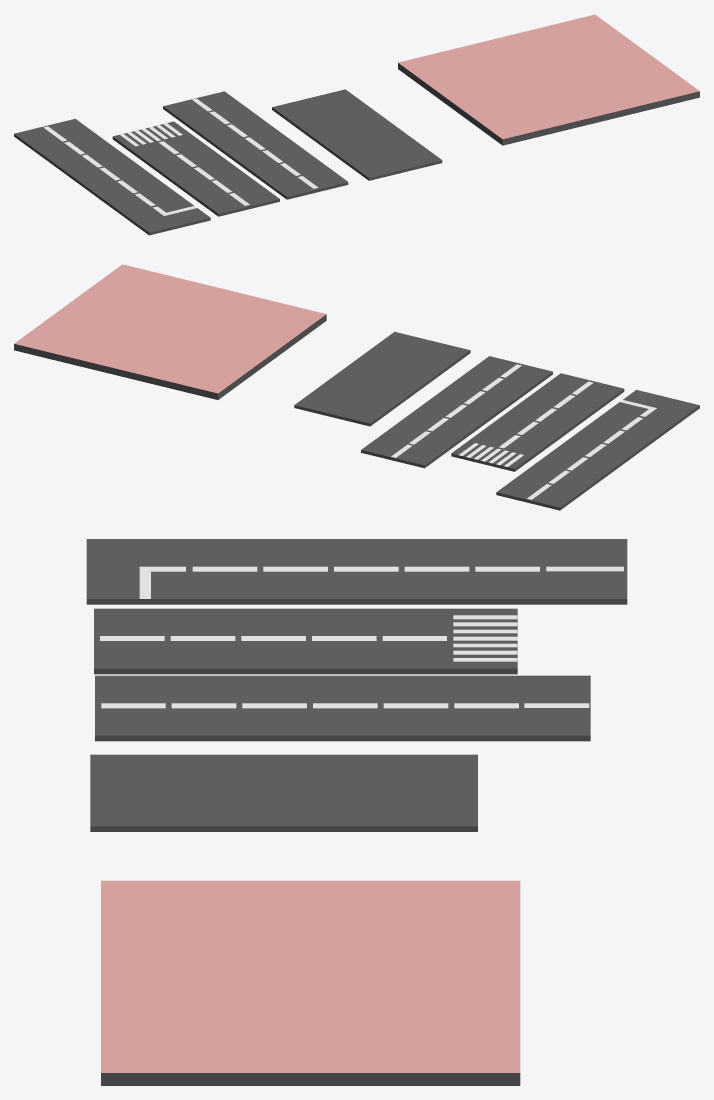
The model's file is lv2_roads.fbx.
The picture shows the model from 3 angles, top to bottom: view 1: azimuth 30°, elevation 25°; view 2: azimuth 150°, elevation 25°; view 3: azimuth 270°, elevation 25°; orthographic projection. The views are drawn at different scales.
Visible parts, largest first — view 1: lv2_base, street_turn_lv2, street_straight_lv2, street_empty_lv2, street_pass_lv2; view 2: lv2_base, street_turn_lv2, street_straight_lv2, street_empty_lv2, street_pass_lv2; view 3: lv2_base, street_turn_lv2, street_straight_lv2, street_empty_lv2, street_pass_lv2.
Boxes of the visible parts, <box> form: lv2_base: <box>398,14,699,145</box>; street_turn_lv2: <box>14,118,210,235</box>; street_straight_lv2: <box>163,91,348,199</box>; street_empty_lv2: <box>272,89,442,180</box>; street_pass_lv2: <box>112,121,279,216</box>; lv2_base: <box>14,264,326,399</box>; street_turn_lv2: <box>496,390,699,510</box>; street_straight_lv2: <box>361,356,552,468</box>; street_empty_lv2: <box>294,331,470,426</box>; street_pass_lv2: <box>451,373,624,471</box>; lv2_base: <box>101,880,520,1085</box>; street_turn_lv2: <box>86,539,627,604</box>; street_straight_lv2: <box>95,675,590,741</box>; street_empty_lv2: <box>90,754,477,831</box>; street_pass_lv2: <box>94,608,517,674</box>.
Bounding box in the file's own units: 10568 × 116 × 4464.
